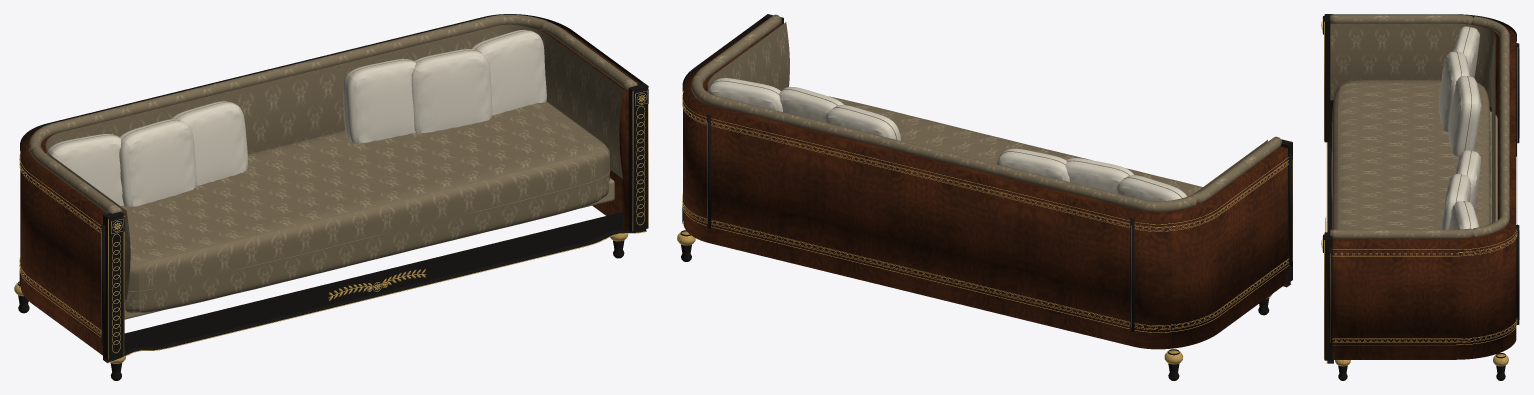
3 renders of one model, left to right at view 1: azimuth 30°, elevation 25°; view 2: azimuth 150°, elevation 25°; view 3: azimuth 270°, elevation 25°, orthographic. The views are drawn at different scales.
Visible parts, largest first — view 1: Nantes three-seat sofa | 50375.0 | living-1 web batch; view 2: Nantes three-seat sofa | 50375.0 | living-1 web batch; view 3: Nantes three-seat sofa | 50375.0 | living-1 web batch.
Boxes of the visible parts, x1,y1,x2,y2 form: Nantes three-seat sofa | 50375.0 | living-1 web batch: [14, 14, 648, 380]; Nantes three-seat sofa | 50375.0 | living-1 web batch: [677, 14, 1292, 380]; Nantes three-seat sofa | 50375.0 | living-1 web batch: [1321, 14, 1519, 380].
Bounding box in the file's own units: 2.5 × 0.78 × 0.92.
Materials: 7 (3 with a texture image).
